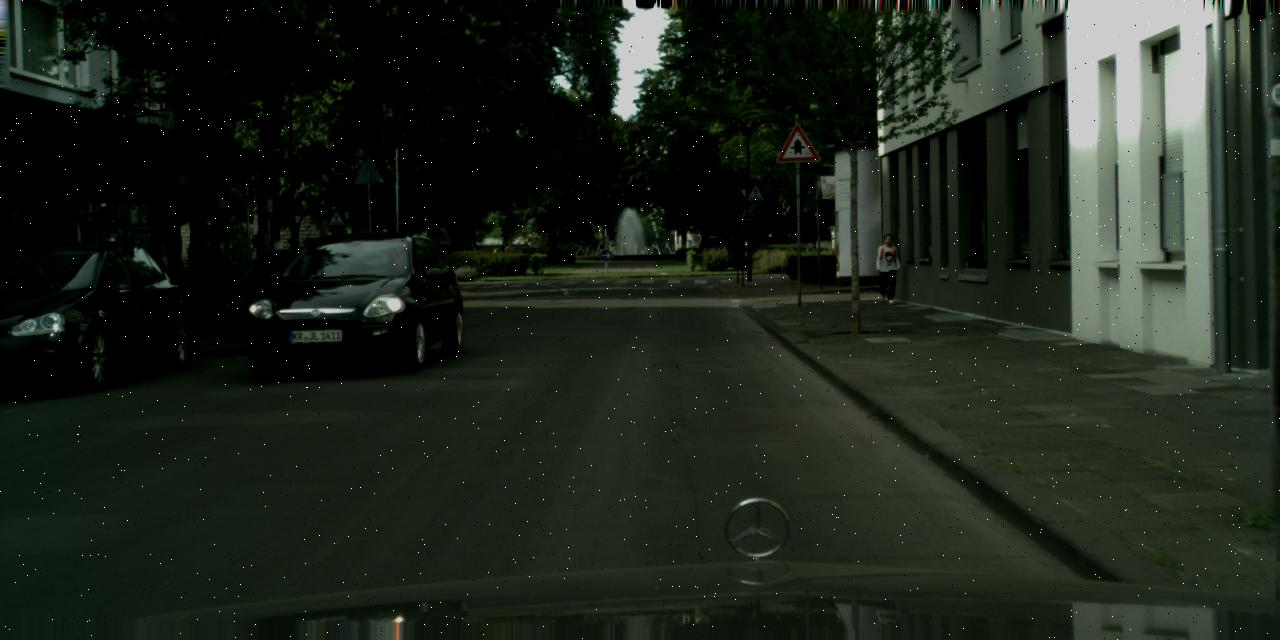ped: (874, 233, 901, 301)
